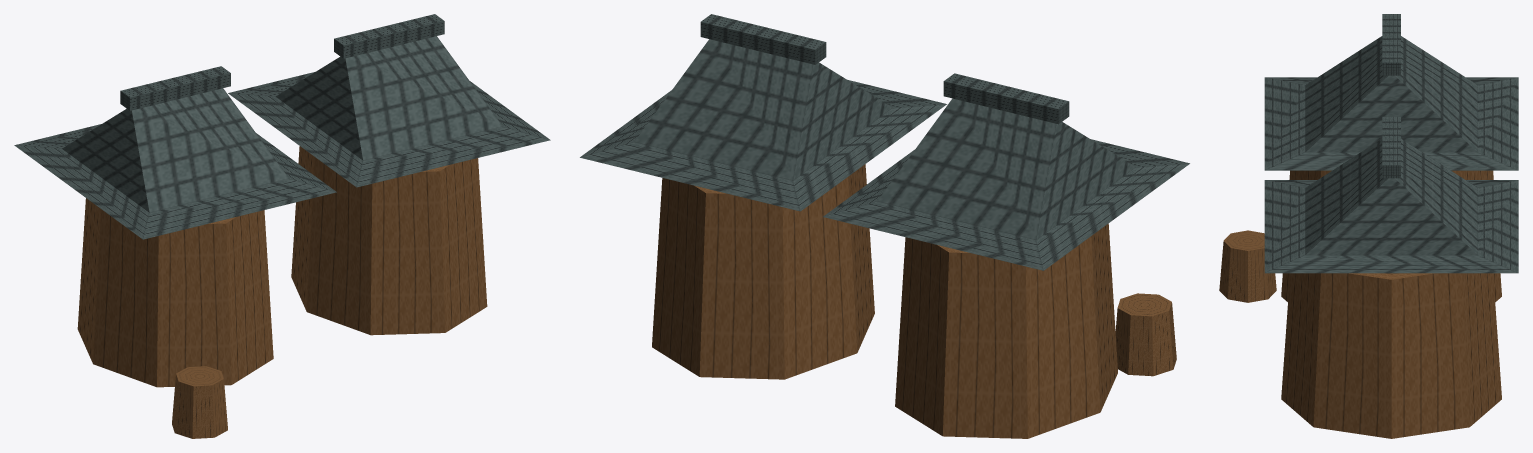
Rendered from domestic-GRANARY-1-lod0.glb.
The picture shows the model from 3 angles, left to right: view 1: azimuth 30°, elevation 25°; view 2: azimuth 150°, elevation 25°; view 3: azimuth 270°, elevation 25°; orthographic projection. The views are drawn at different scales.
Bounding box in the file's own units: 0.84 × 0.551 × 0.542.
1 material, 1 textured.
